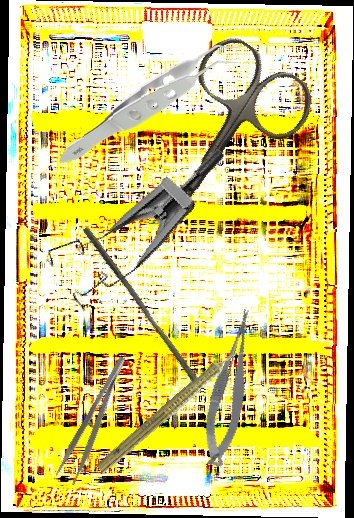Dressing Forceps: (53, 354, 139, 486)
Handpiece: (93, 339, 251, 480)
Iris Scissors: (100, 27, 325, 279)
Micro Scissor: (191, 306, 272, 470)
Pusher: (76, 225, 207, 388)
Speculum: (31, 100, 229, 332)
Tissue Forceps: (55, 43, 256, 165)
